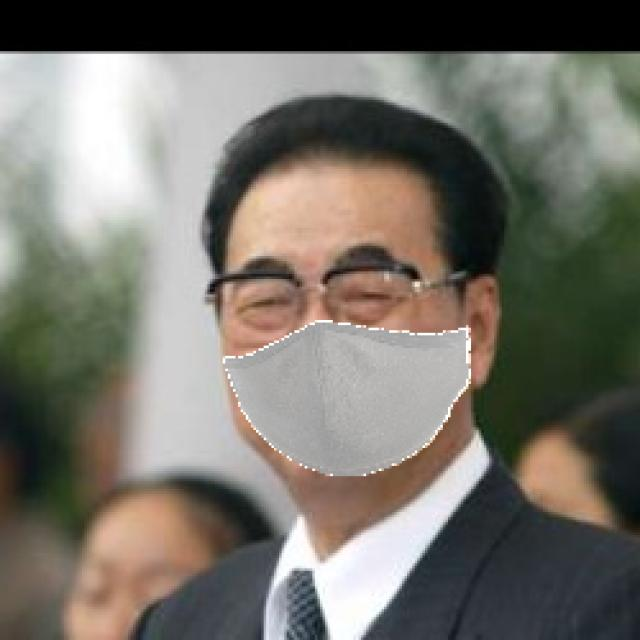mask: (219, 314, 480, 483)
